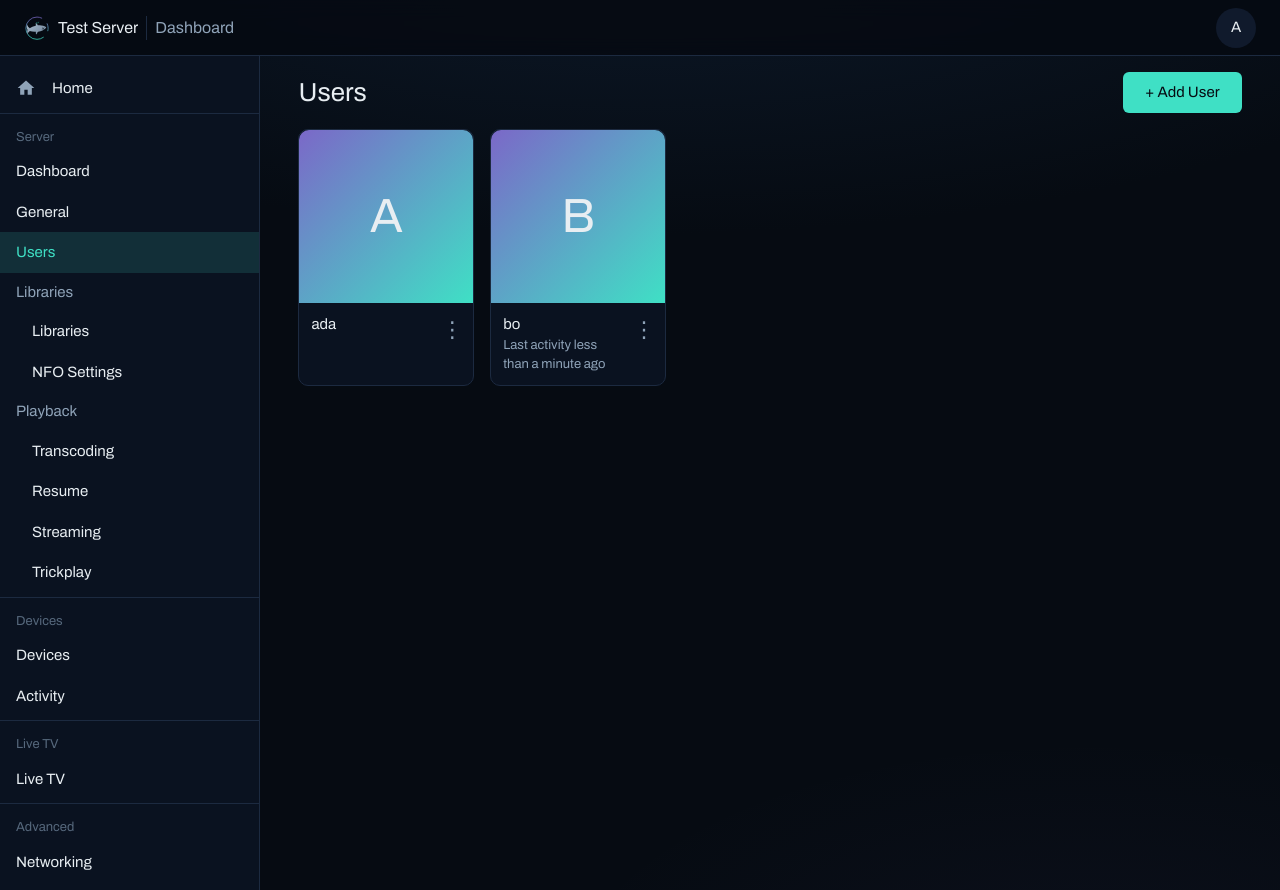
Test: dashboard users › lists users, adds one, and opens its profile
Check: the text "Last activity less than a minute ago" is shown, box [503, 336, 623, 375]
Click the link with test id "add-user" at (1182, 92), box [1123, 72, 1242, 112]
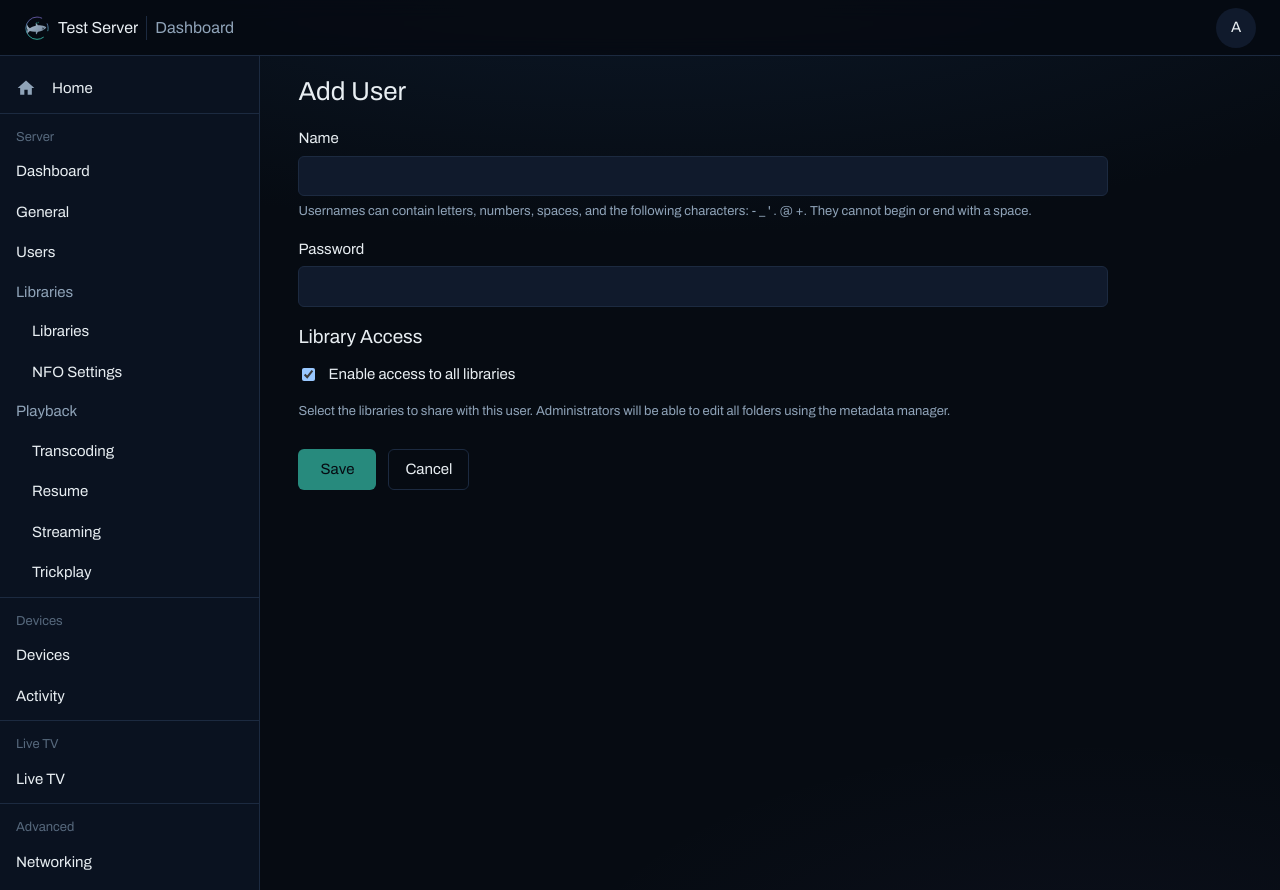
Type "cy" into the field labelled "Name" at (703, 176), box [298, 156, 1108, 196]
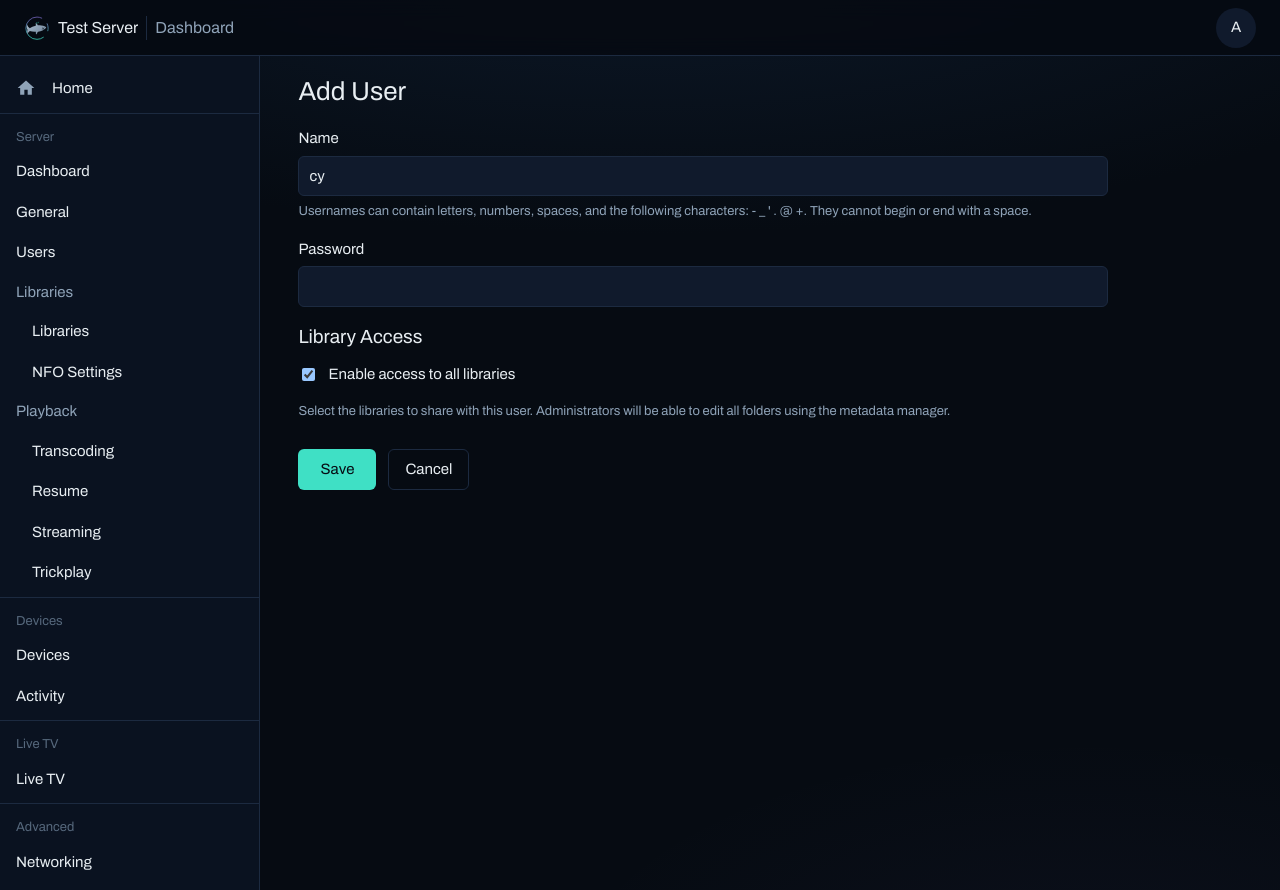
Type "pw" into the password field labelled "Password" at (703, 286), box [298, 266, 1108, 306]
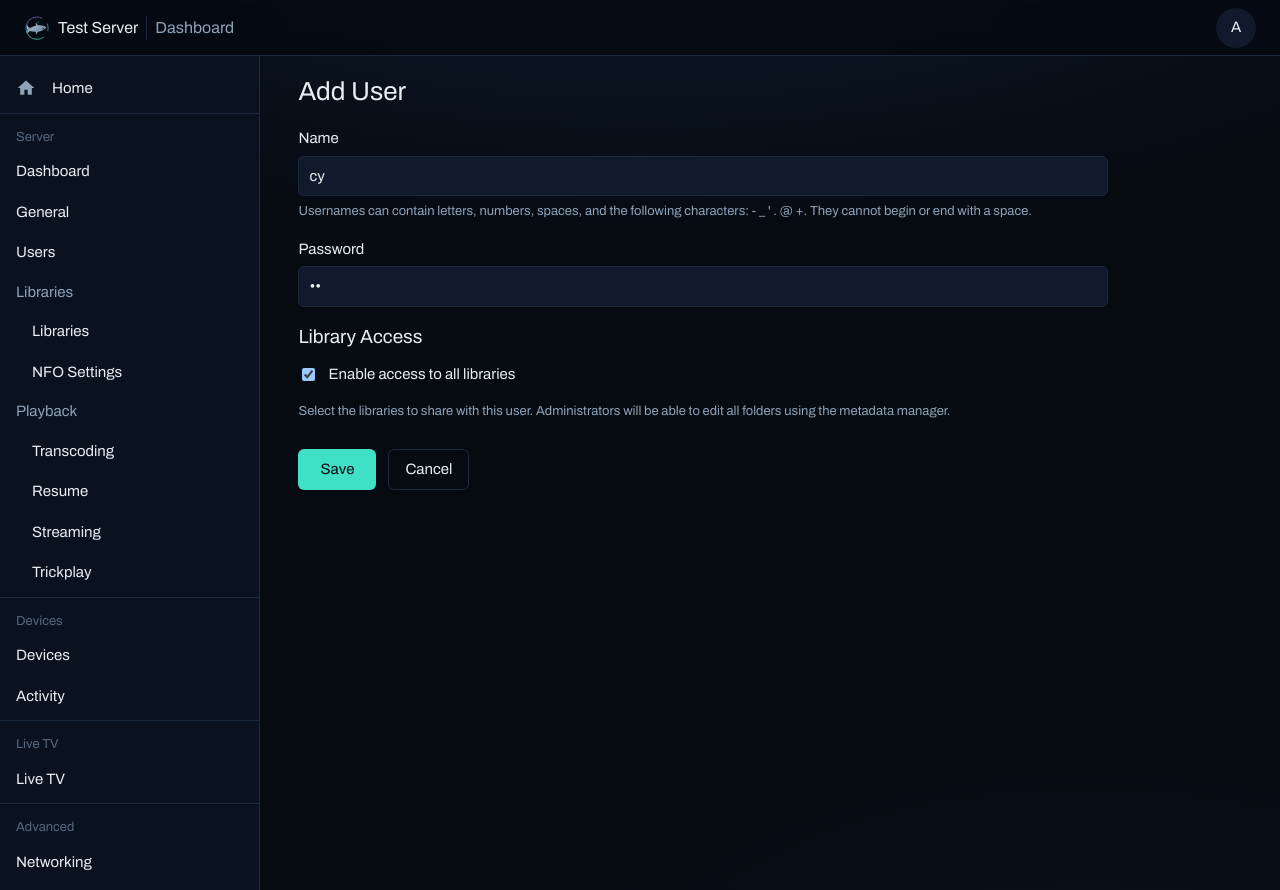
Click the checkbox labelled "Enable access to all libraries" at (309, 374), box [302, 368, 315, 381]
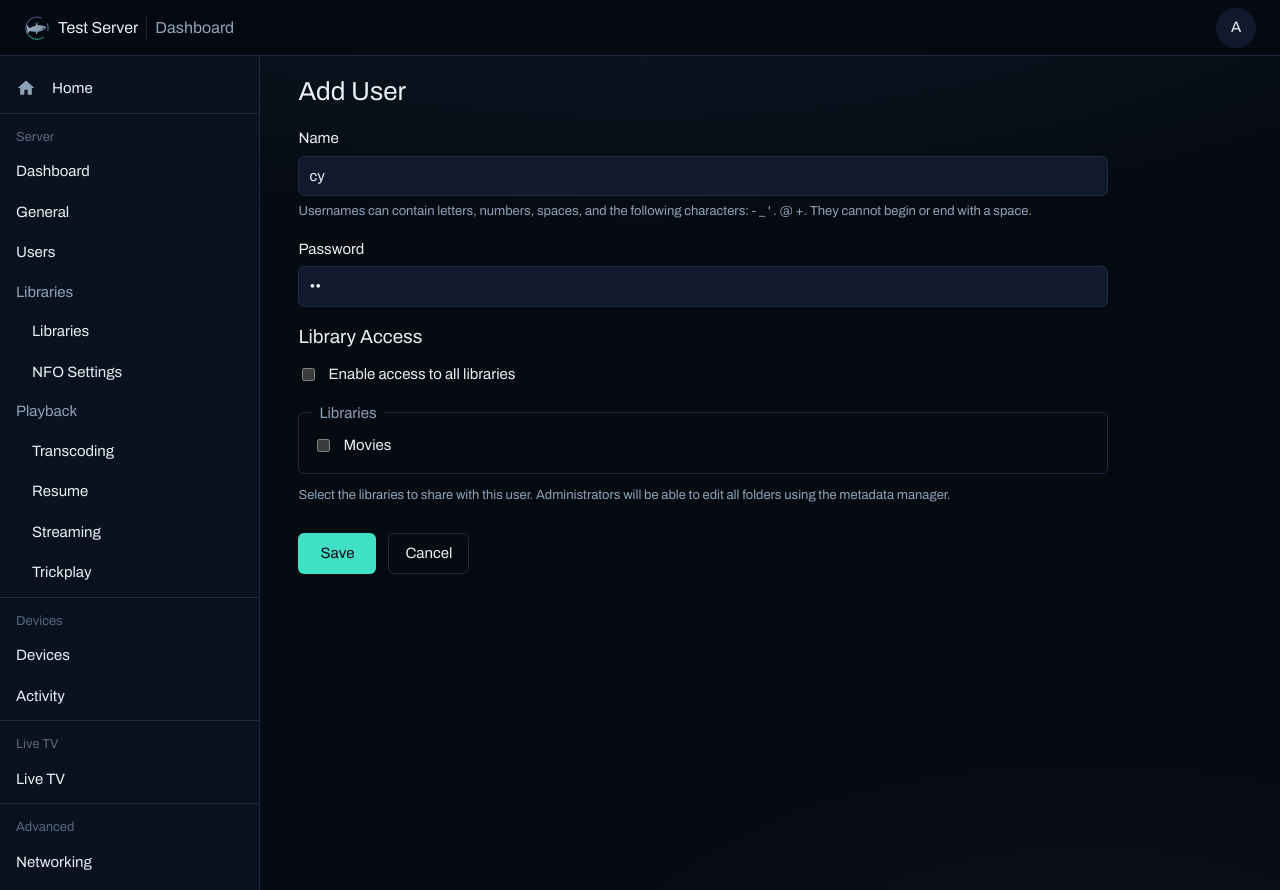
Click the checkbox labelled "Movies" at (324, 445), box [317, 439, 330, 452]
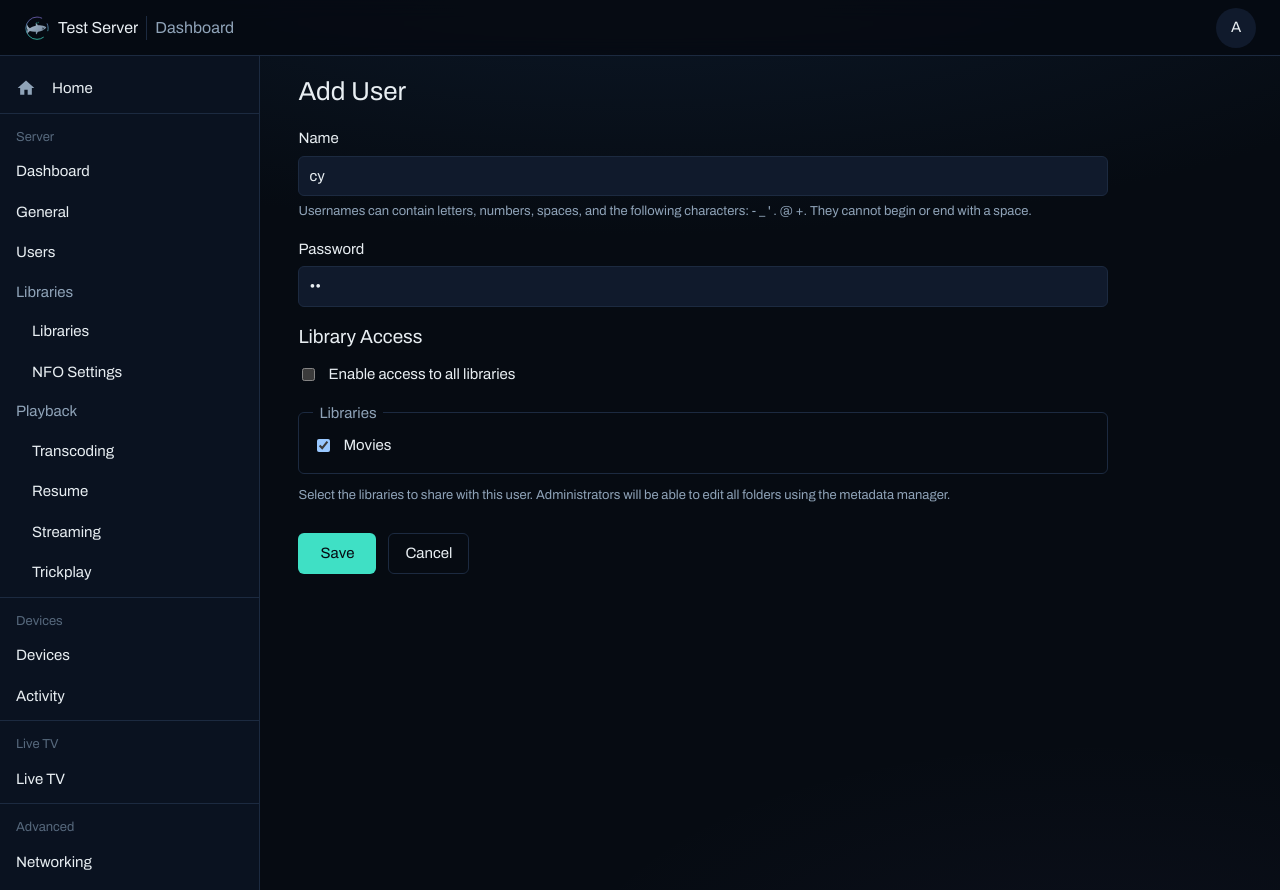
Click the button "Save" at (337, 553), box [298, 533, 376, 574]
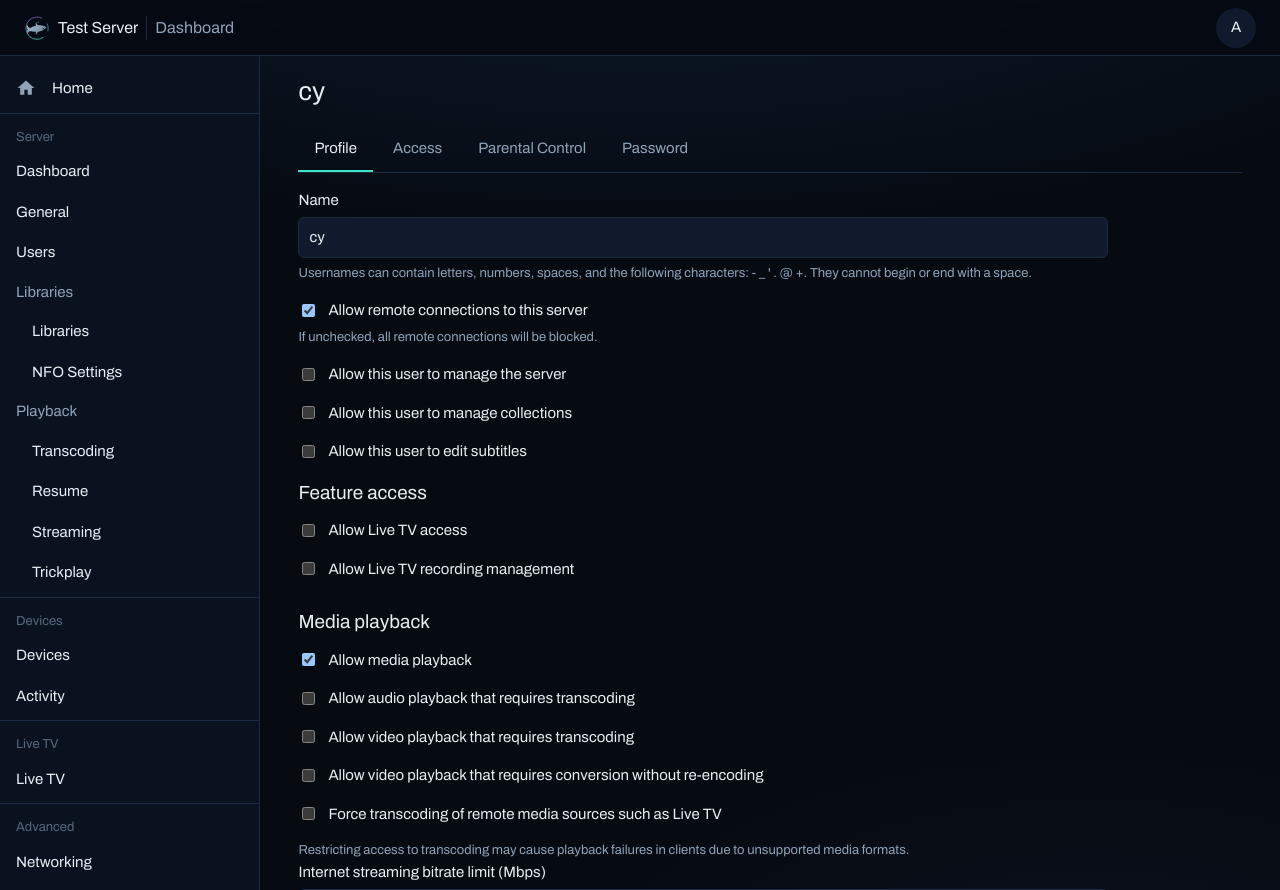
Check: the heading "cy" is shown, box [298, 72, 325, 111]
